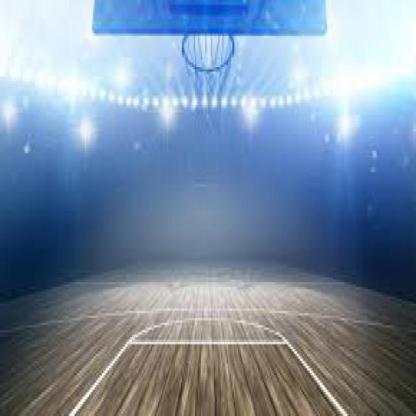rim: (181, 31, 235, 74)
